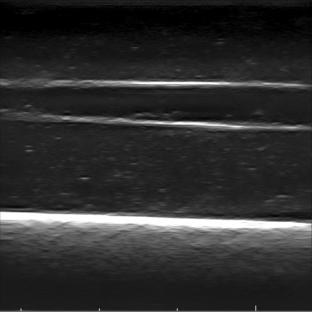vessel: (5, 79, 311, 129)
